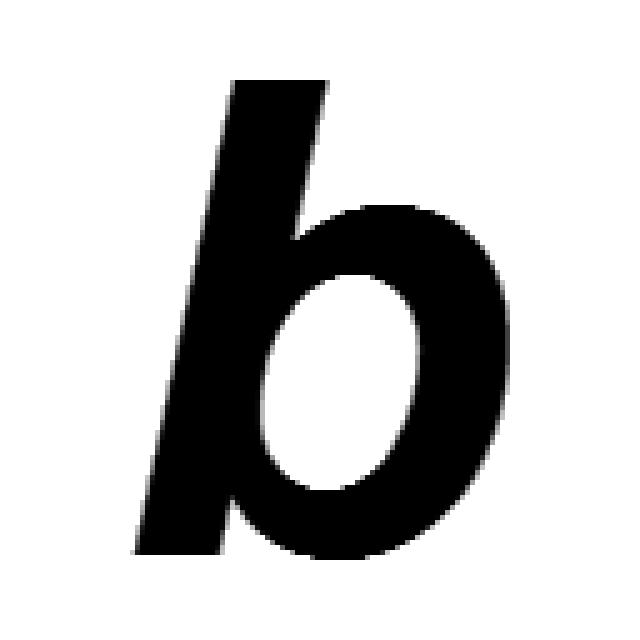B: (135, 80, 510, 560)
